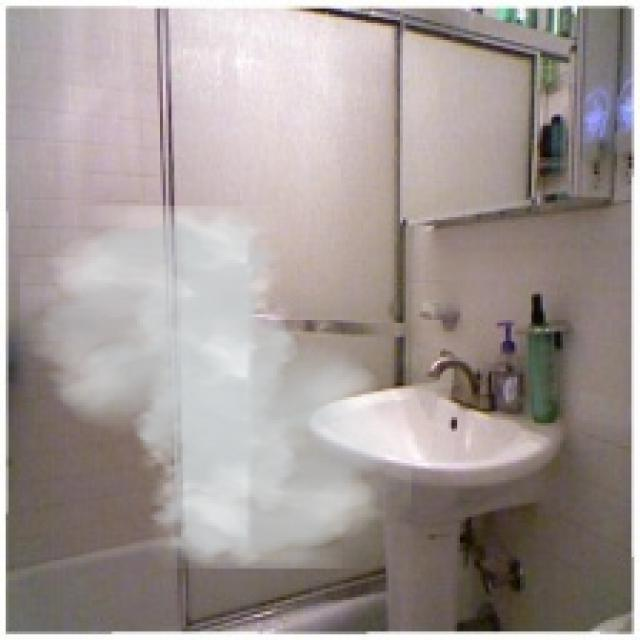Smoke: (19, 206, 412, 568)
